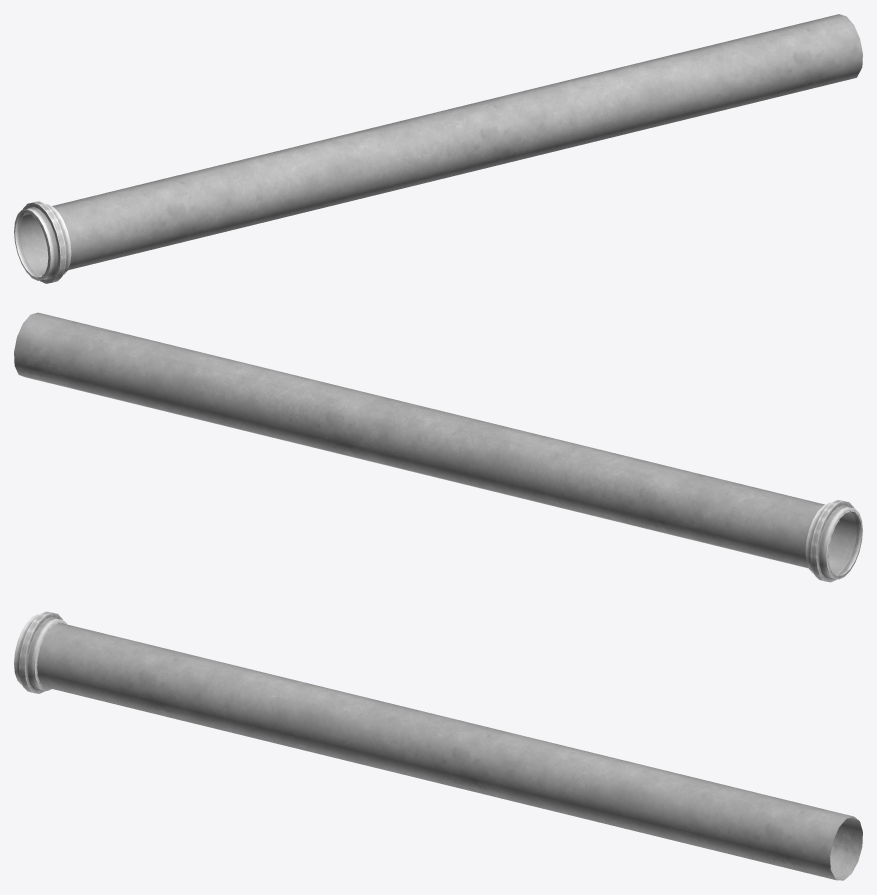
The model's file is SM_Pipes_03f.glb.
3 views of the same model, one above another, from view 1: azimuth 30°, elevation 25°; view 2: azimuth 150°, elevation 25°; view 3: azimuth 330°, elevation 25° (orthographic).
Visible parts, largest first — view 1: SM_Pipes_03f; view 2: SM_Pipes_03f; view 3: SM_Pipes_03f.
Part boxes in pixels (<box>): SM_Pipes_03f: <box>14,14,862,283</box>; SM_Pipes_03f: <box>14,312,862,582</box>; SM_Pipes_03f: <box>14,611,862,880</box>.
Size of the model in its own units: 2 by 0.1773 by 0.1773.
Materials: 1 (1 with a texture image).
